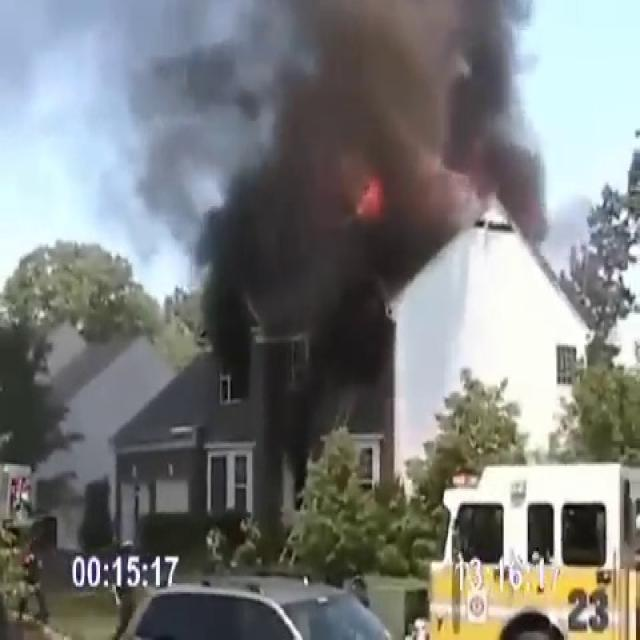Smoke: (131, 0, 541, 420)
